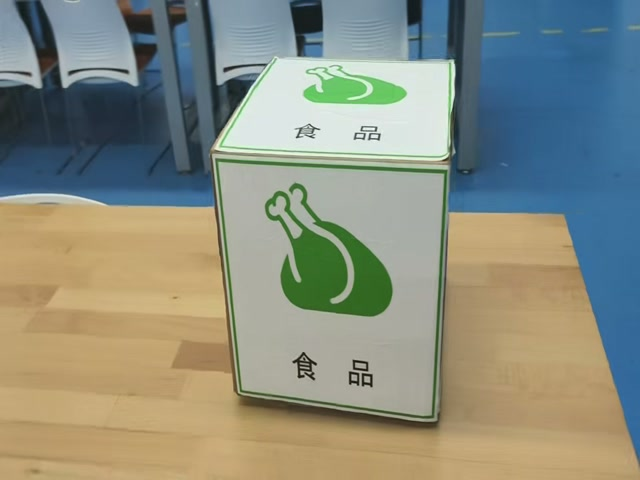Cube_food: (208, 59, 449, 173)
